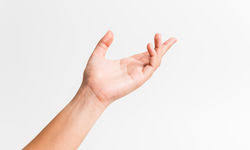hand: (75, 21, 191, 97)
